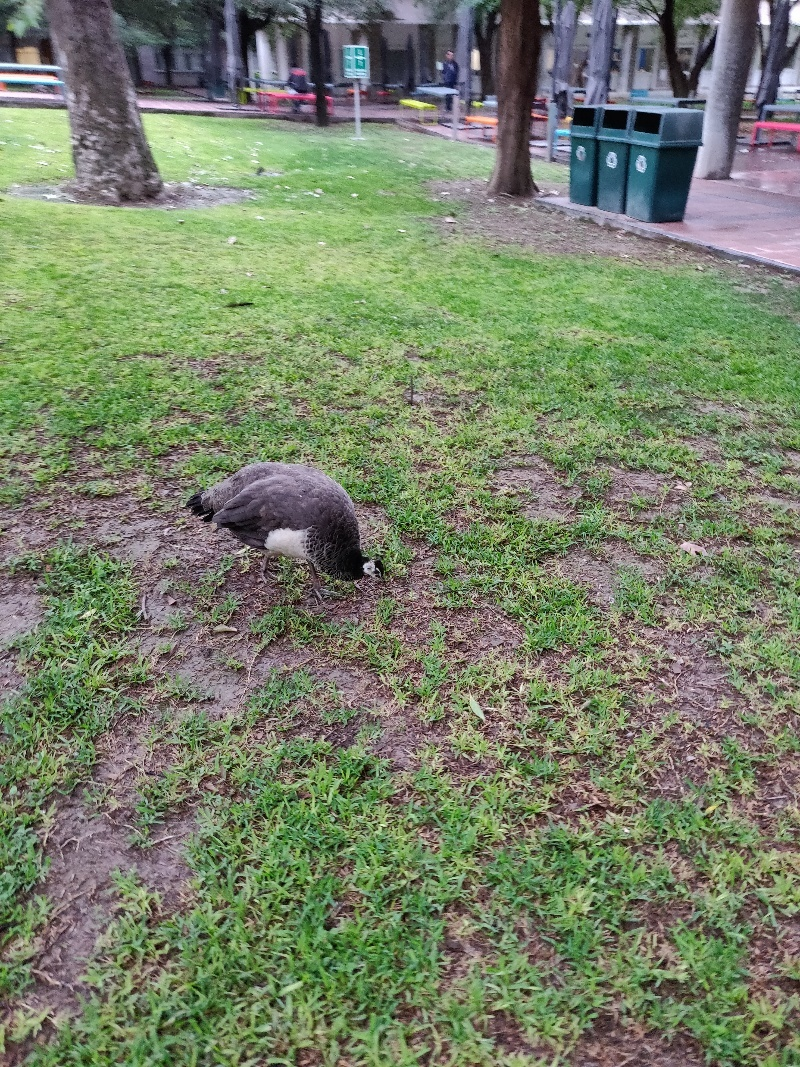pavoreal: (184, 459, 386, 603)
